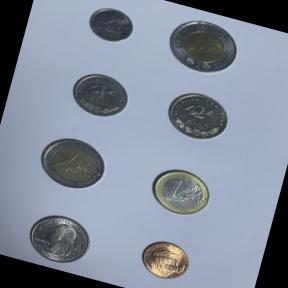coin: (158, 9, 248, 86), (30, 127, 115, 201), (19, 206, 98, 274), (160, 83, 238, 151), (144, 160, 220, 225), (134, 234, 195, 288), (82, 0, 141, 51)
